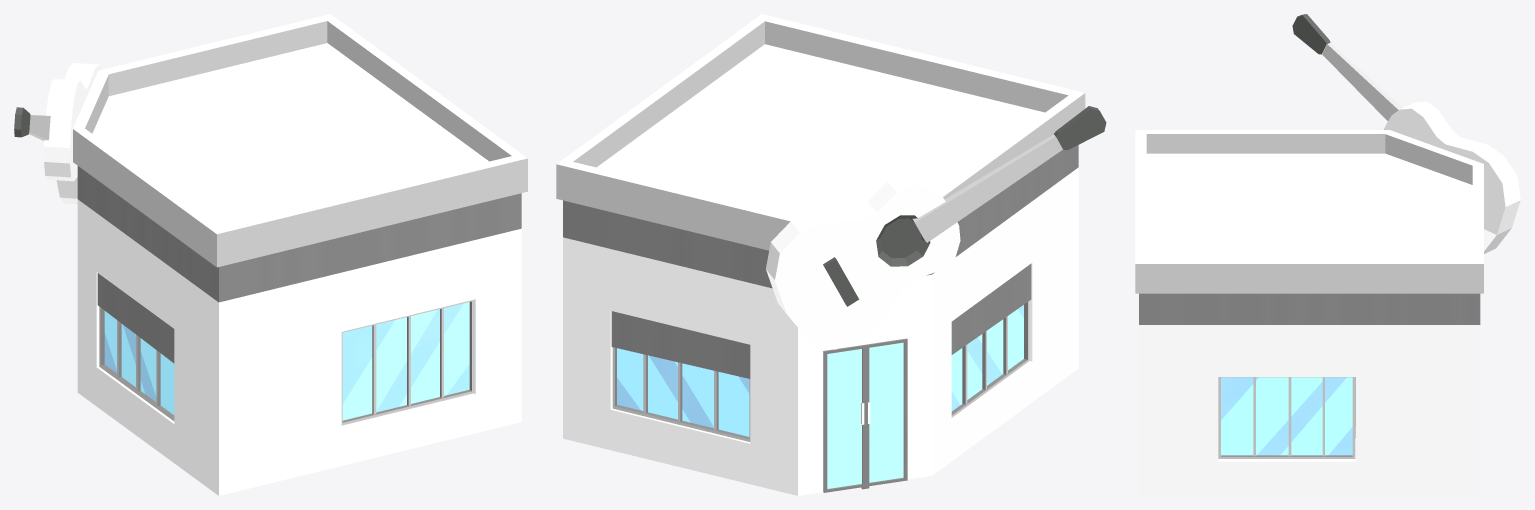
Rendered from services.001.glb.
3 renders of one model, left to right at view 1: azimuth 30°, elevation 25°; view 2: azimuth 150°, elevation 25°; view 3: azimuth 270°, elevation 25°, orthographic. The views are drawn at different scales.
Parts seen in each view (by area): view 1: services.001(Clone); view 2: services.001(Clone); view 3: services.001(Clone).
Part boxes in pixels (x1,y1,x2,y2): services.001(Clone): (14,14,527,495); services.001(Clone): (556,14,1106,495); services.001(Clone): (1135,14,1520,495).
Bounding box in the file's own units: 7.06 × 5.55 × 6.31.
Materials: 1 (1 with a texture image).
